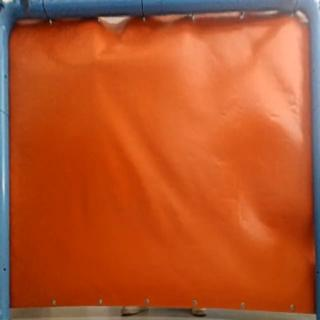Hit-hRxx: (86, 54, 105, 70)
